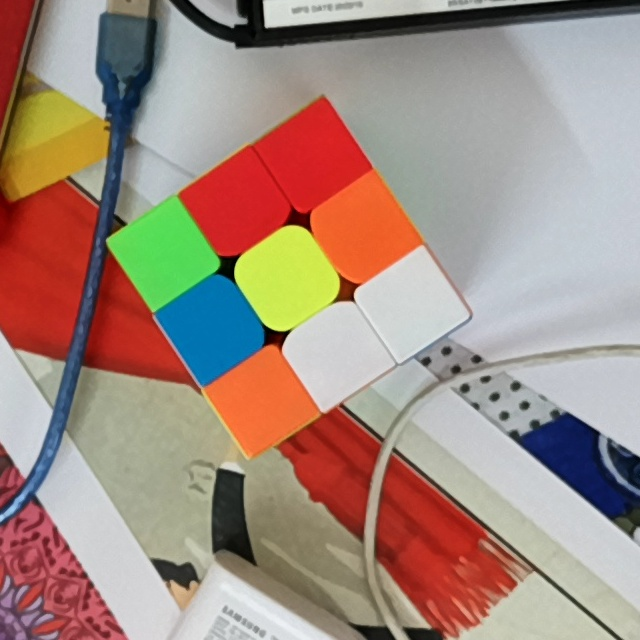tile: (258, 244, 317, 310), (333, 199, 394, 261), (283, 125, 344, 186), (181, 297, 242, 357), (232, 370, 291, 432), (305, 319, 363, 381), (135, 224, 192, 284), (211, 172, 265, 233), (383, 276, 439, 334)
